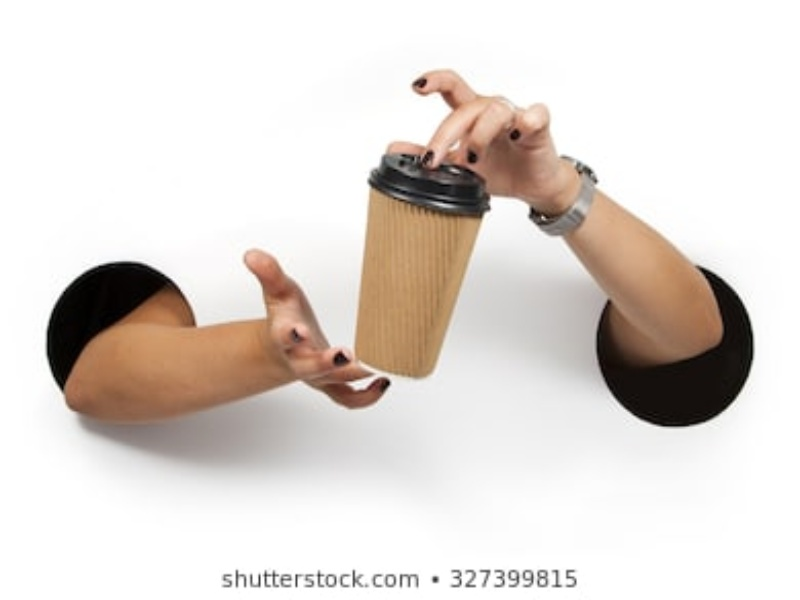coffee-lid: (366, 149, 492, 216)
plastic-cup: (353, 150, 494, 379)
